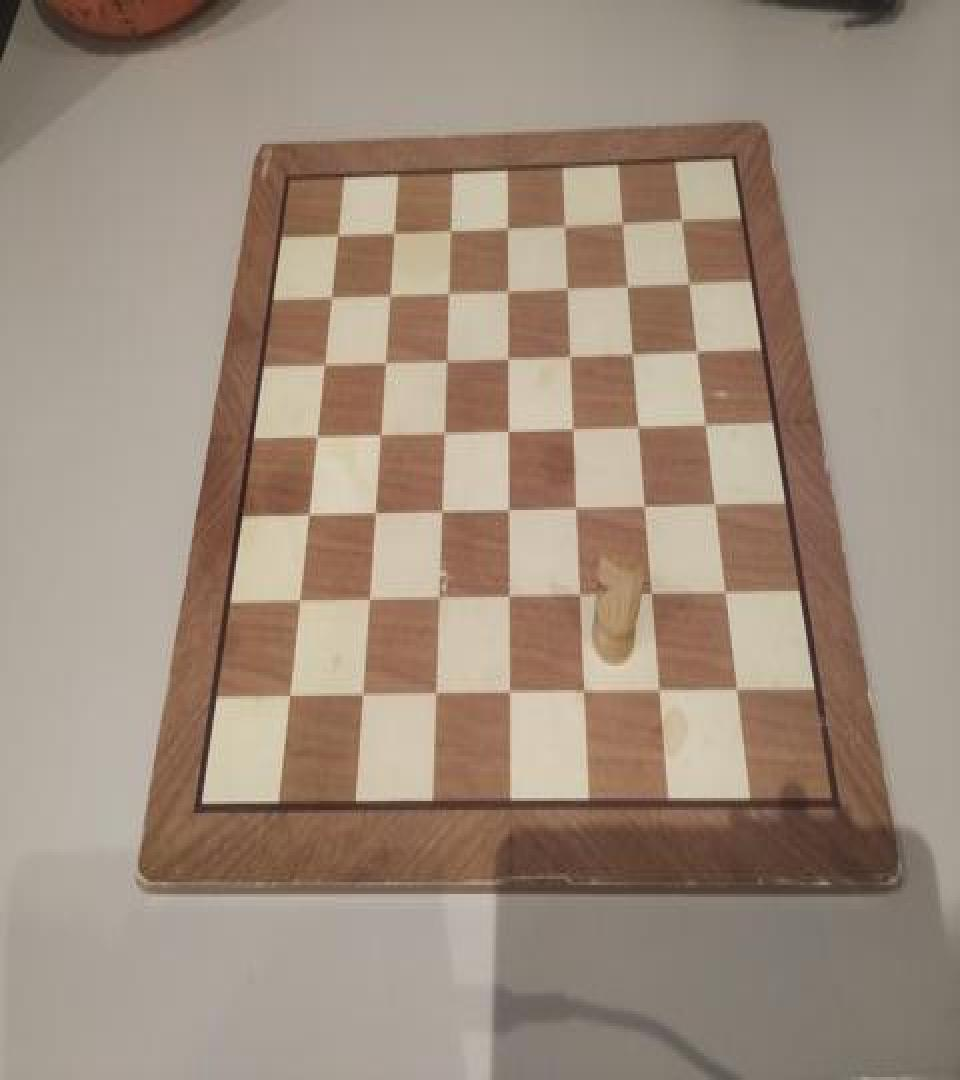xcorner: (428, 499, 448, 530), (376, 280, 396, 311), (277, 684, 297, 714), (349, 684, 369, 714), (497, 681, 517, 711), (572, 681, 592, 711), (648, 680, 668, 710), (726, 678, 746, 708), (287, 590, 307, 620), (356, 588, 376, 618), (496, 585, 516, 615), (568, 584, 588, 614), (641, 582, 661, 612), (295, 502, 315, 532), (361, 501, 381, 531), (496, 496, 516, 526), (565, 495, 585, 525), (634, 494, 654, 524), (704, 490, 724, 520), (303, 423, 323, 453), (367, 422, 387, 452), (431, 418, 451, 448), (496, 417, 516, 447), (561, 414, 581, 444), (628, 412, 648, 442), (695, 410, 715, 440), (311, 351, 331, 381), (372, 348, 392, 378), (433, 345, 453, 375), (495, 342, 515, 372), (558, 340, 578, 370), (622, 338, 642, 368), (686, 334, 706, 364), (318, 284, 338, 314), (435, 278, 455, 308), (495, 274, 515, 304), (555, 272, 575, 302), (616, 268, 636, 298), (678, 266, 698, 296), (324, 220, 344, 250), (380, 218, 400, 248), (437, 214, 457, 244), (495, 212, 515, 242), (553, 208, 573, 238), (611, 206, 631, 236), (671, 202, 691, 232), (423, 683, 443, 712), (426, 587, 446, 616), (714, 581, 734, 610)
